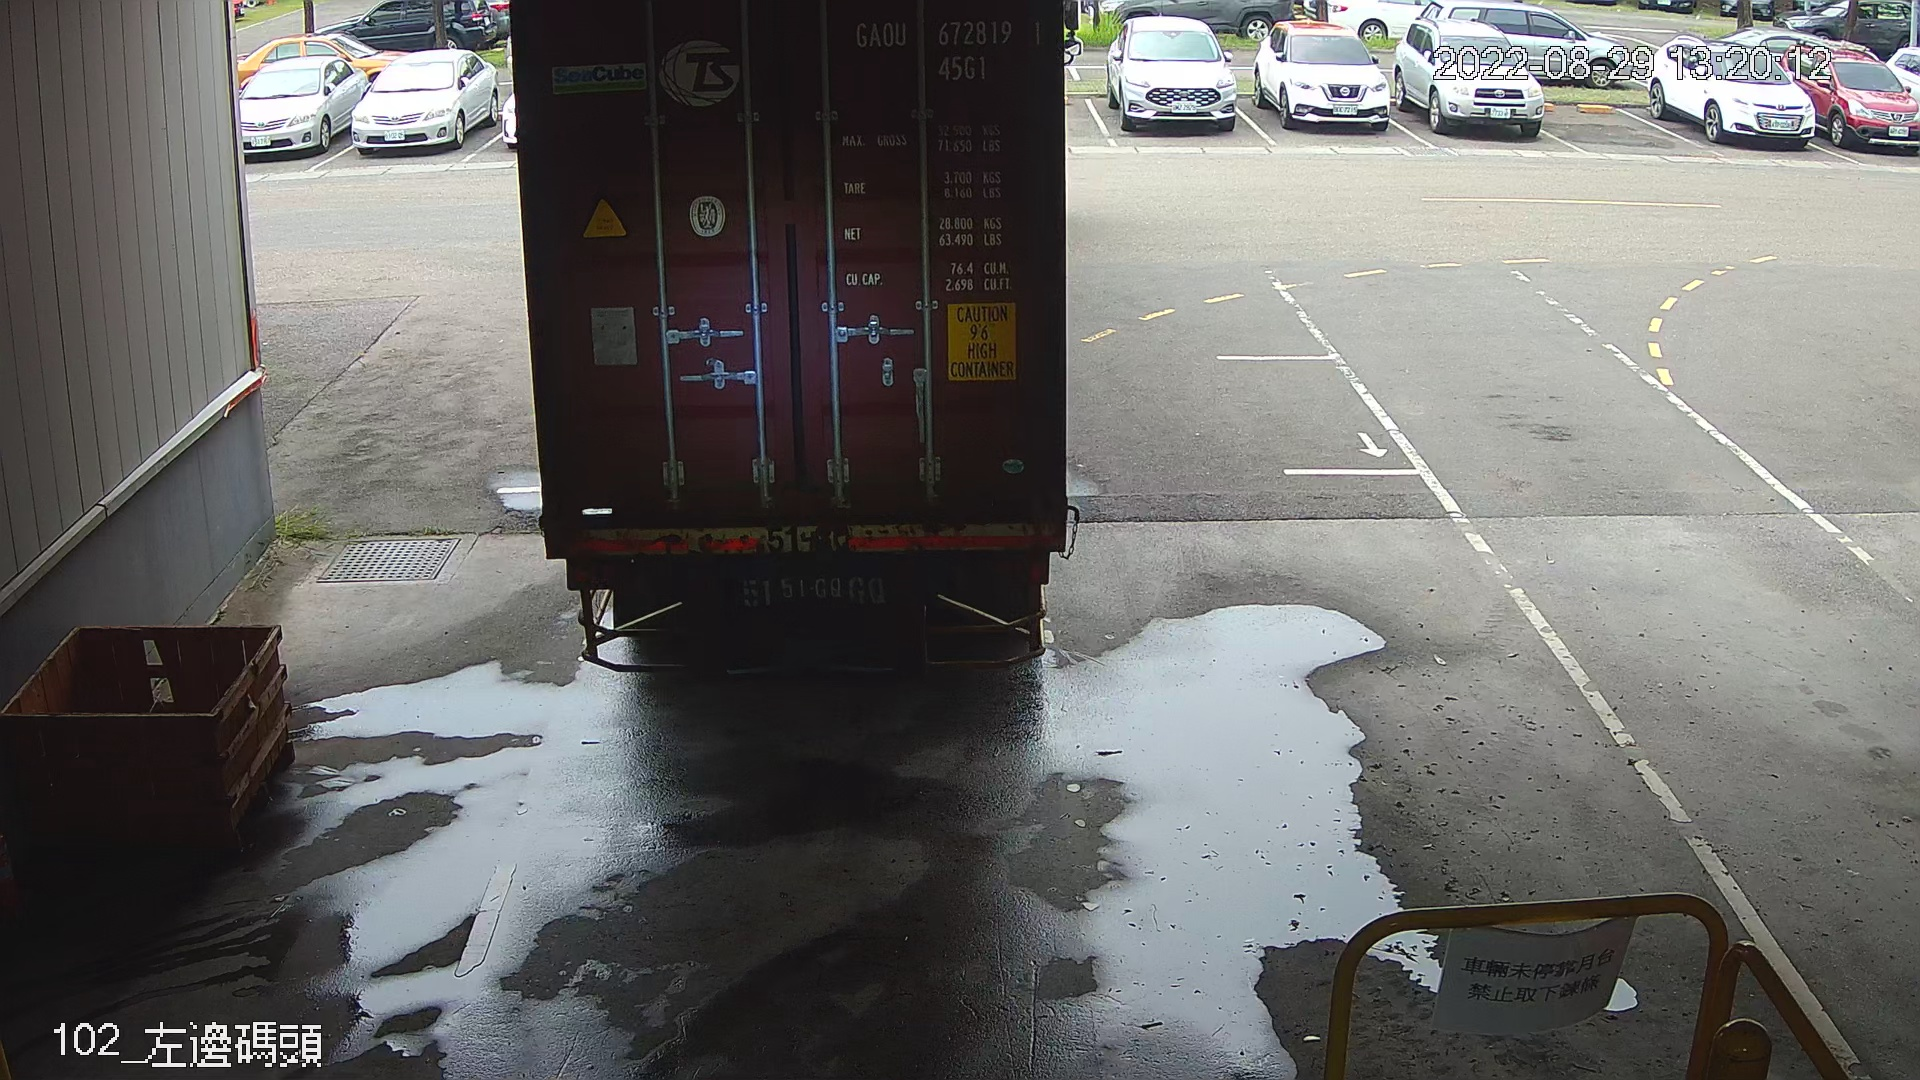container: (845, 8, 1051, 88)
